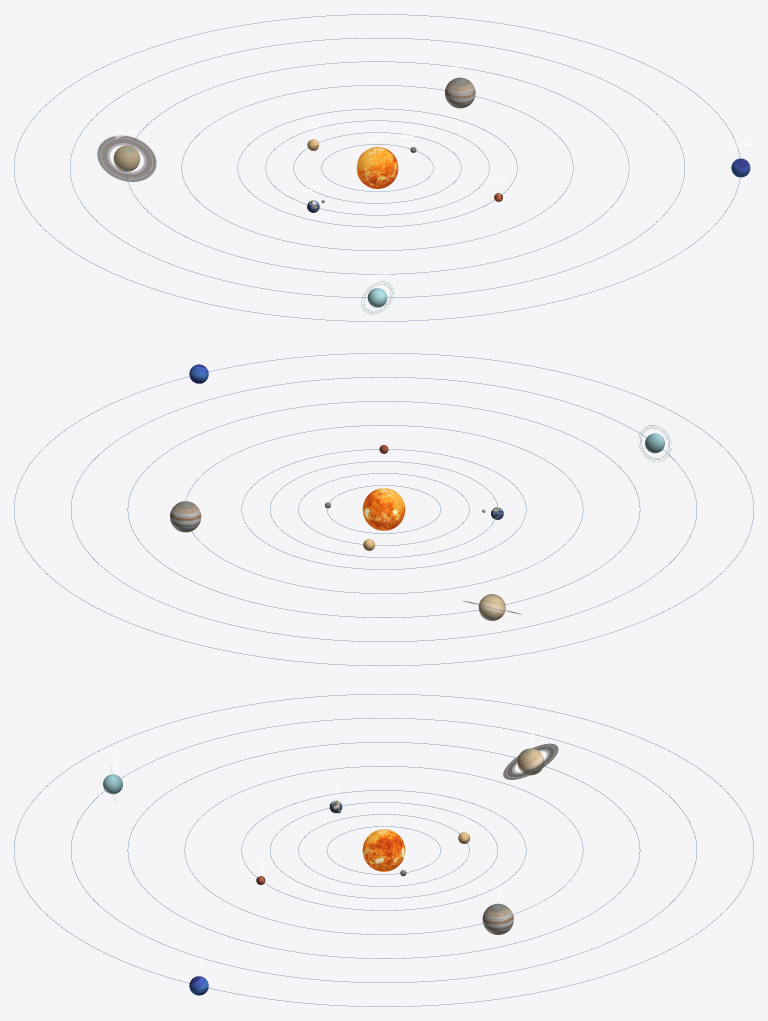
The model's file is Solar_System.glb.
3 views of the same model, one above another, from view 1: azimuth 30°, elevation 25°; view 2: azimuth 150°, elevation 25°; view 3: azimuth 270°, elevation 25° (orthographic).
Visible parts, largest first — view 1: Orbit_26.0, Saturn_Rings, Sun, Orbit_22.0, Orbit_18.0, Orbit_14.0, Jupiter, Orbit_10.0, Saturn; view 2: Orbit_26.0, Sun, Orbit_22.0, Orbit_18.0, Orbit_14.0, Jupiter, Orbit_10.0, Saturn, Uranus; view 3: Orbit_26.0, Sun, Orbit_22.0, Orbit_18.0, Orbit_14.0, Jupiter, Saturn_Rings, Orbit_10.0, Saturn.
Boxes of the visible parts, x1,y1,x2,y2 form: Orbit_26.0: [14, 14, 740, 321]; Saturn_Rings: [97, 135, 156, 181]; Sun: [356, 147, 398, 188]; Orbit_22.0: [70, 38, 684, 297]; Orbit_18.0: [125, 61, 629, 274]; Orbit_14.0: [181, 85, 573, 250]; Jupiter: [445, 77, 475, 108]; Orbit_10.0: [237, 108, 517, 227]; Saturn: [113, 145, 140, 171]; Orbit_26.0: [14, 353, 753, 665]; Sun: [362, 488, 405, 530]; Orbit_22.0: [71, 377, 696, 641]; Orbit_18.0: [127, 401, 640, 617]; Orbit_14.0: [185, 425, 583, 593]; Jupiter: [170, 501, 201, 532]; Orbit_10.0: [241, 449, 526, 569]; Saturn: [478, 594, 505, 620]; Uranus: [638, 425, 671, 461]; Orbit_26.0: [14, 694, 753, 1006]; Sun: [362, 829, 405, 871]; Orbit_22.0: [71, 718, 696, 982]; Orbit_18.0: [127, 742, 640, 958]; Orbit_14.0: [184, 766, 583, 934]; Jupiter: [482, 903, 513, 934]; Saturn_Rings: [503, 743, 558, 779]; Orbit_10.0: [241, 790, 526, 910]; Saturn: [517, 748, 544, 775].
Bounding box in the file's own units: 52.02 × 3.86 × 52.02.
14 materials, 11 textured.
